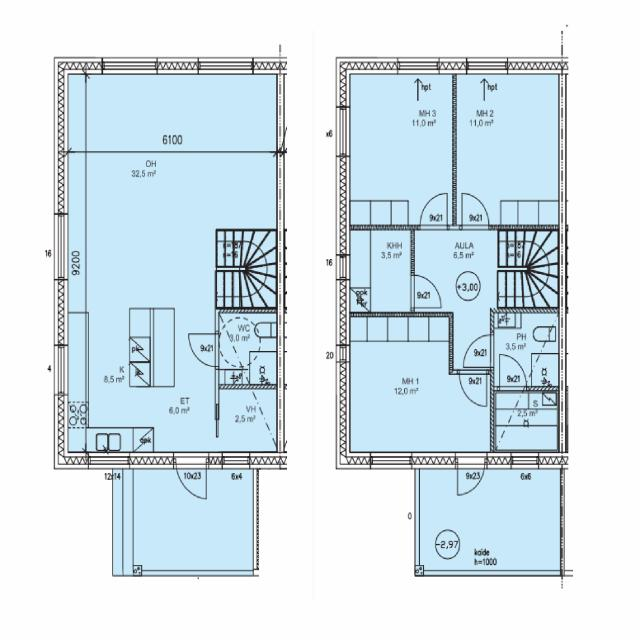door: (174, 452, 208, 510), (456, 452, 487, 504), (420, 191, 448, 230), (410, 274, 442, 308), (462, 190, 489, 230), (499, 352, 527, 390), (459, 369, 487, 407), (188, 332, 219, 366), (463, 334, 494, 366)
